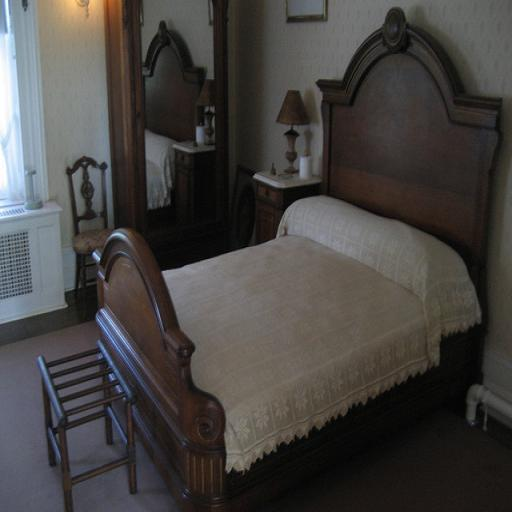bed: (113, 25, 512, 512)
